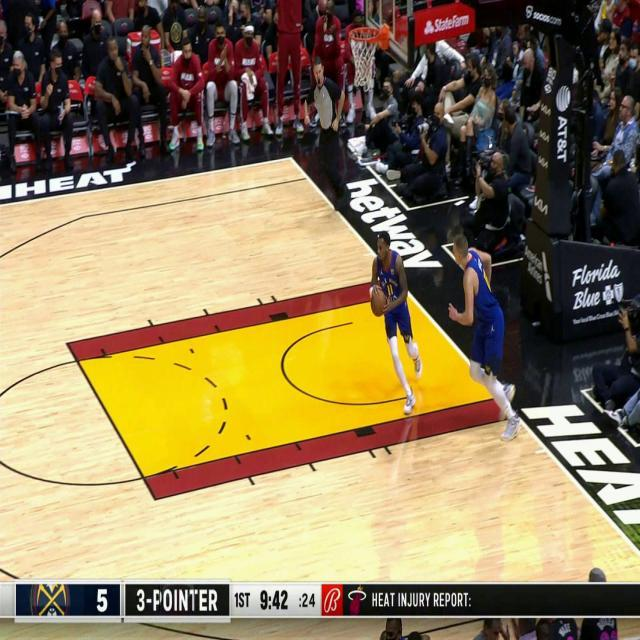rim: (371, 289, 387, 316)
